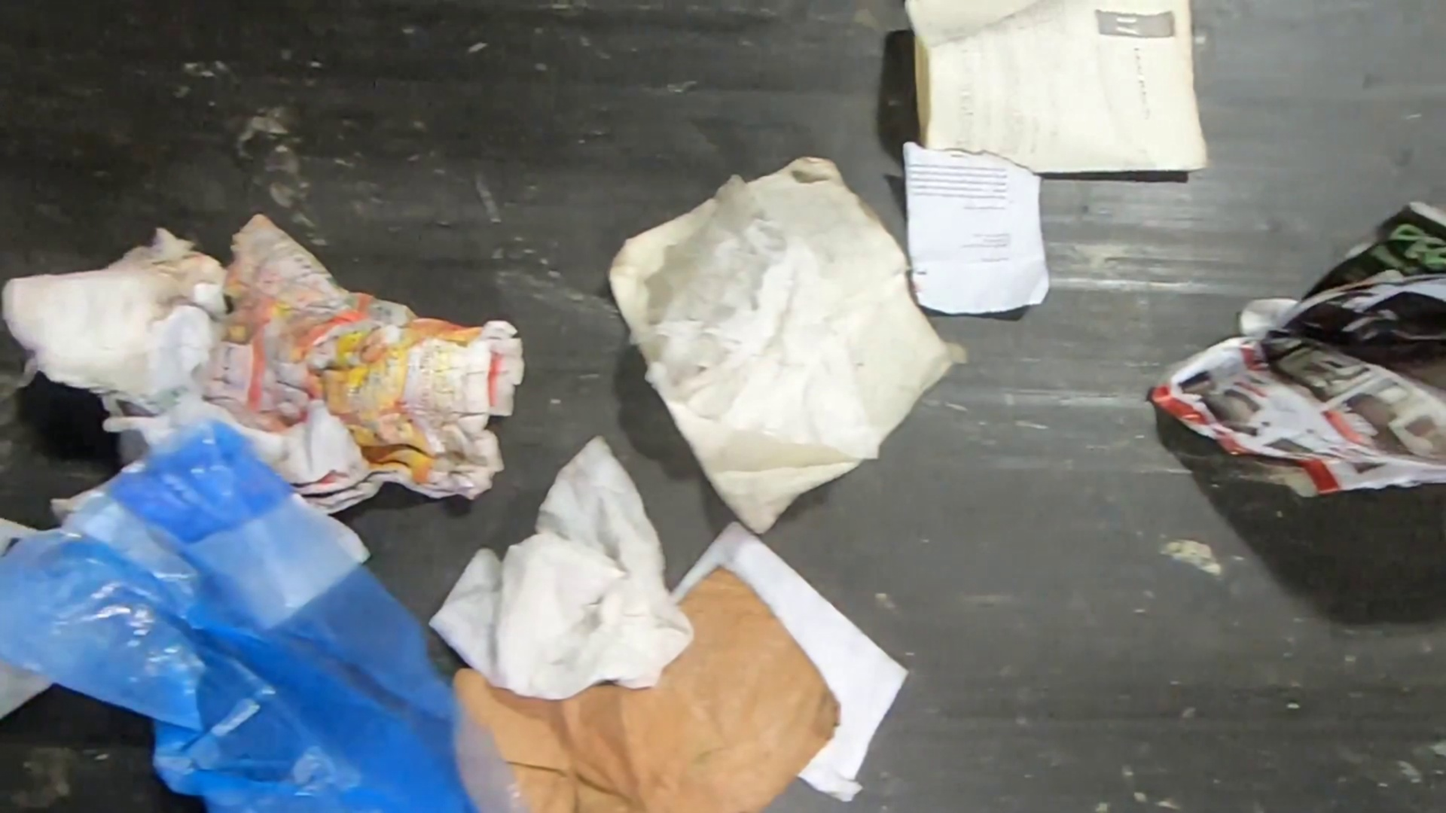cardboard: (450, 562, 843, 813), (0, 223, 233, 416)
plastic: (0, 406, 552, 813)
